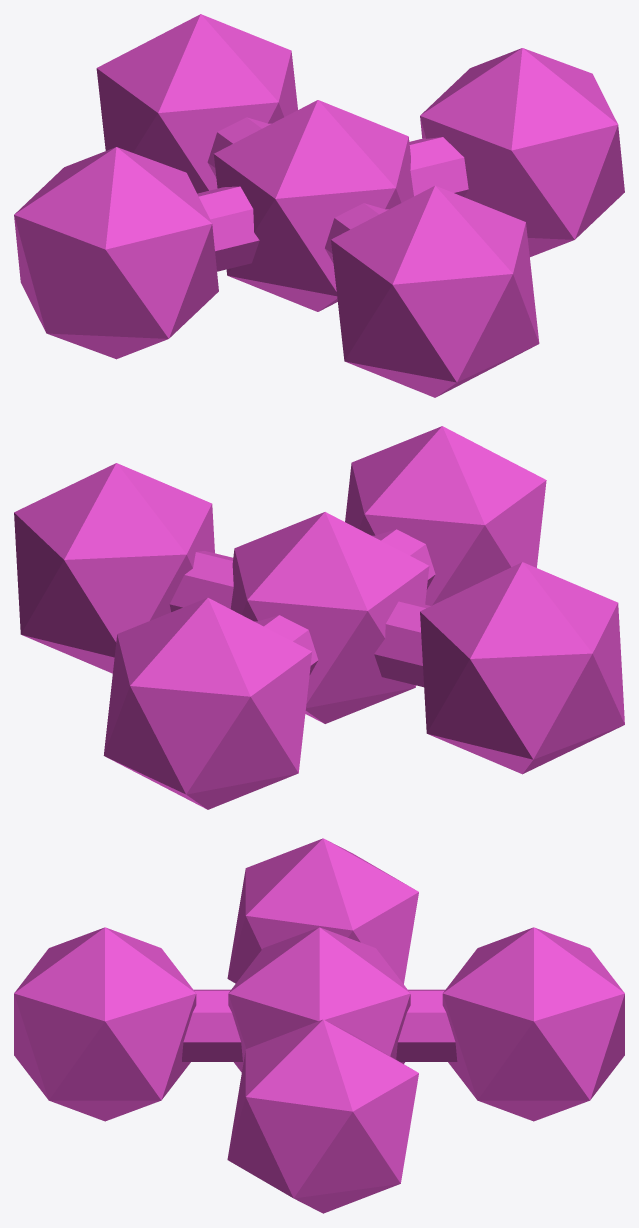
Rendered from spinner.glb.
The picture shows the model from 3 angles, top to bottom: view 1: azimuth 30°, elevation 25°; view 2: azimuth 150°, elevation 25°; view 3: azimuth 270°, elevation 25°; orthographic projection. The views are drawn at different scales.
Parts seen in each view (by area): view 1: Icosphere; view 2: Icosphere; view 3: Icosphere.
Part boxes in pixels (bbox=[...]): Icosphere: bbox=[14, 14, 624, 397]; Icosphere: bbox=[14, 426, 624, 809]; Icosphere: bbox=[14, 838, 624, 1213].
Size of the model in its own units: 5.7 by 2 by 5.7.
